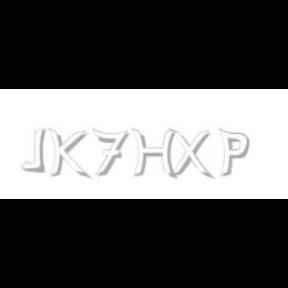7: (92, 128, 130, 178)
H: (131, 128, 177, 180)
J: (20, 128, 46, 172)
K: (48, 128, 88, 180)
P: (218, 128, 250, 178)
X: (167, 128, 211, 180)
